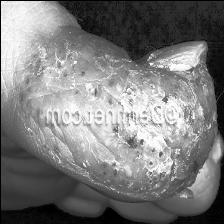Non-Cancerous Skin Condition: (108, 38, 216, 194), (34, 44, 96, 100)
